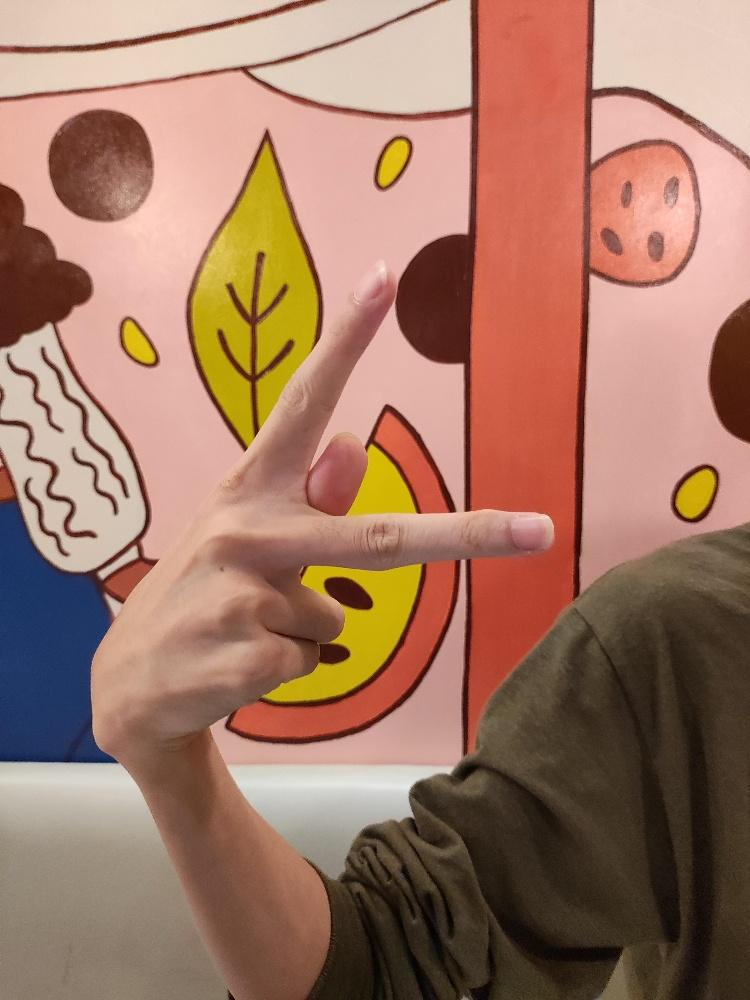k: (87, 254, 560, 760)
